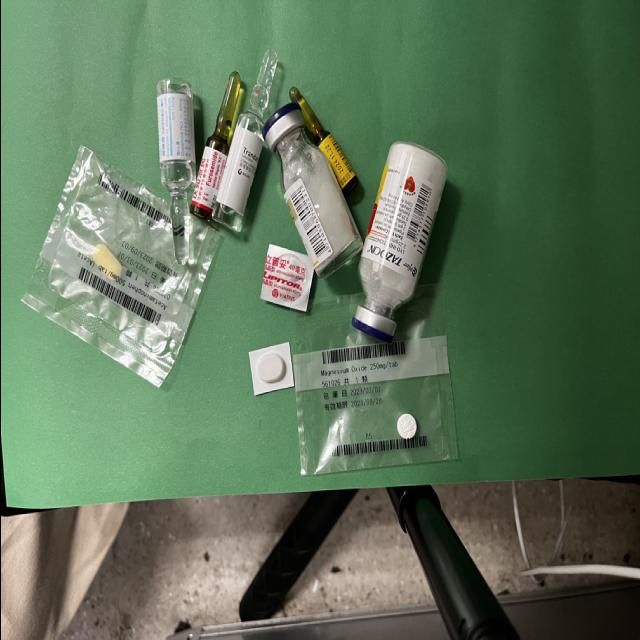Ampoules: (211, 49, 277, 233), (189, 71, 240, 223), (156, 78, 196, 265), (288, 87, 357, 193)
Vials: (350, 140, 448, 343), (262, 103, 362, 279)
